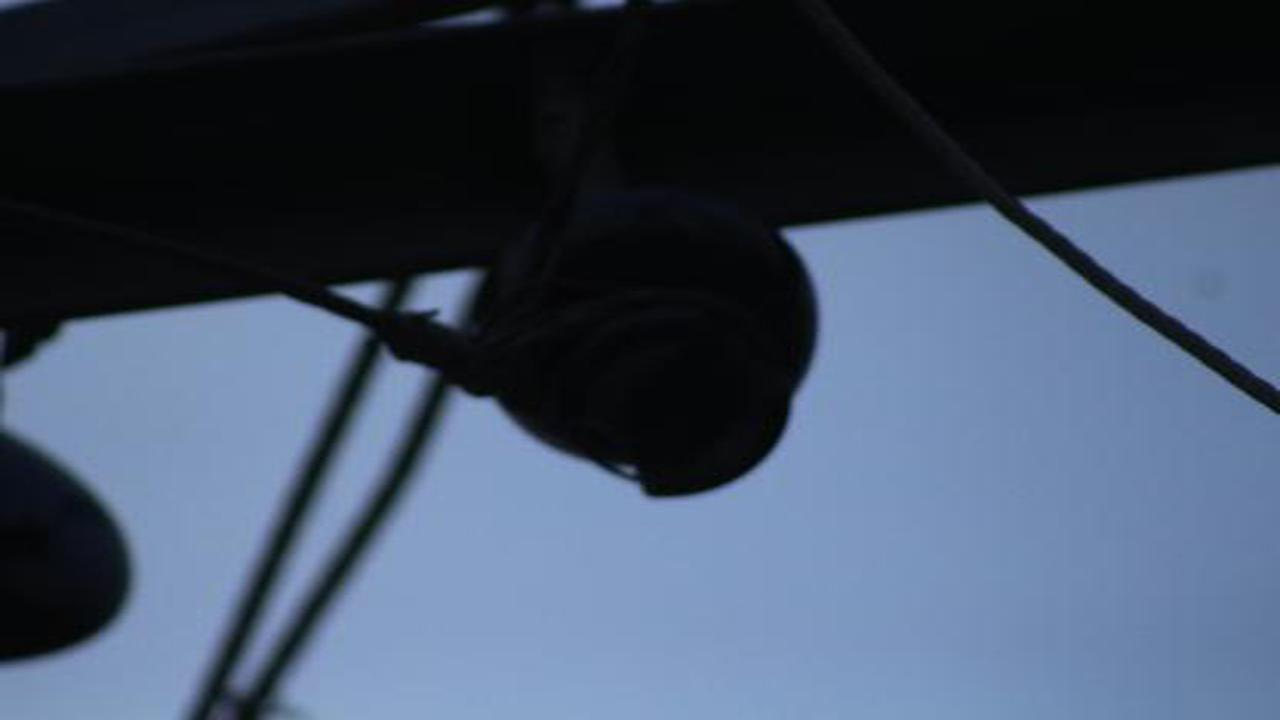insulator_pin: (473, 179, 838, 516)
